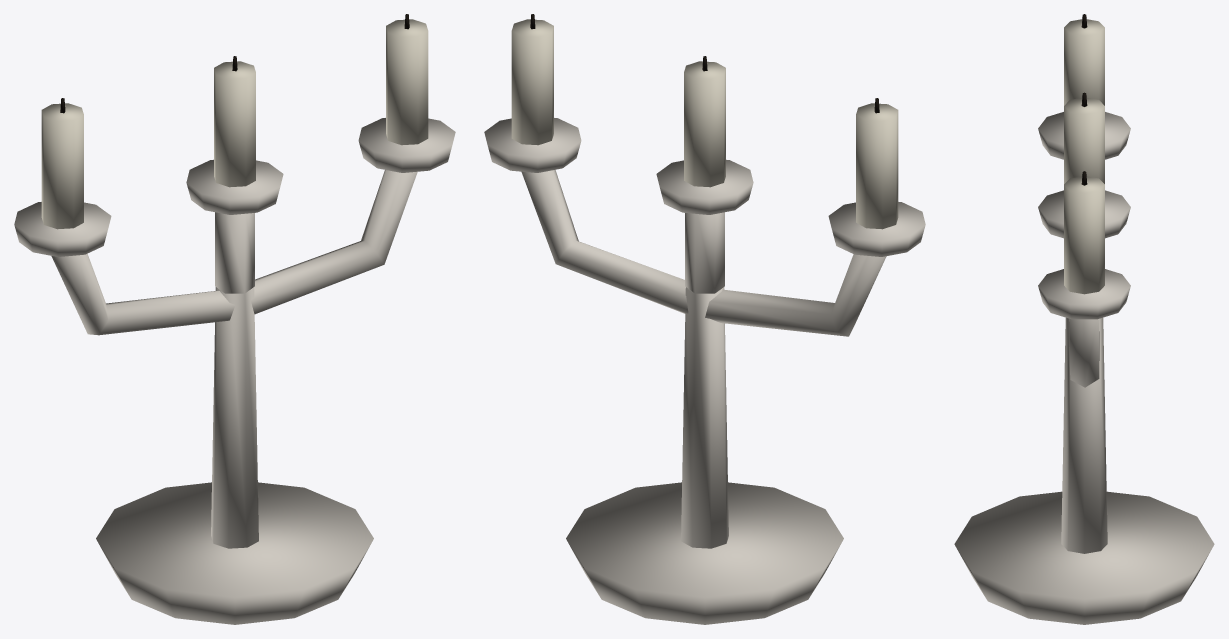
The model's file is marble_candelabra_v0.glb.
3 views of the same model, side by side, from view 1: azimuth 30°, elevation 25°; view 2: azimuth 150°, elevation 25°; view 3: azimuth 270°, elevation 25° (orthographic). The views are drawn at different scales.
Visible parts, largest first — view 1: marble_candelabra_v0; view 2: marble_candelabra_v0; view 3: marble_candelabra_v0.
Part boxes in pixels (x1,y1,x2,y2): marble_candelabra_v0: (14, 14, 455, 624); marble_candelabra_v0: (484, 14, 925, 624); marble_candelabra_v0: (954, 14, 1214, 624).
Bounding box in the file's own units: 0.4951 × 0.575 × 0.28.
